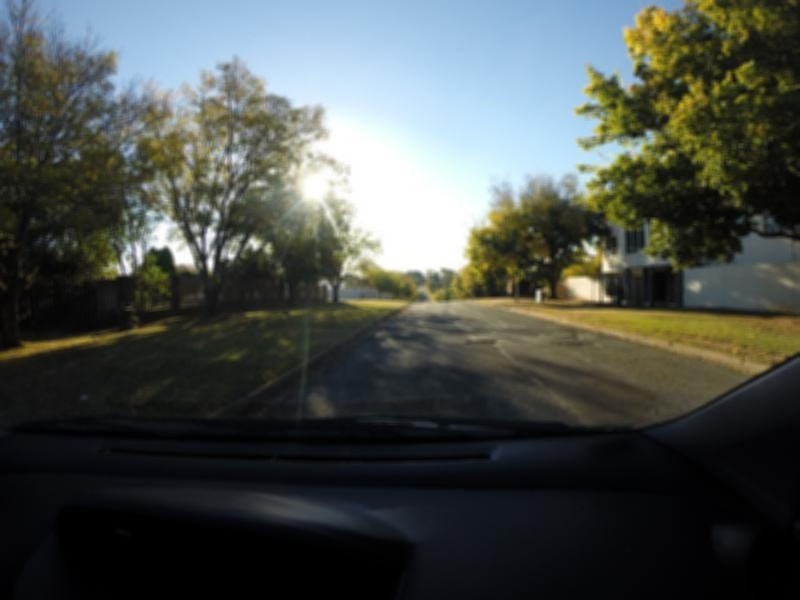pothole: (465, 333, 501, 348), (559, 339, 595, 349)
